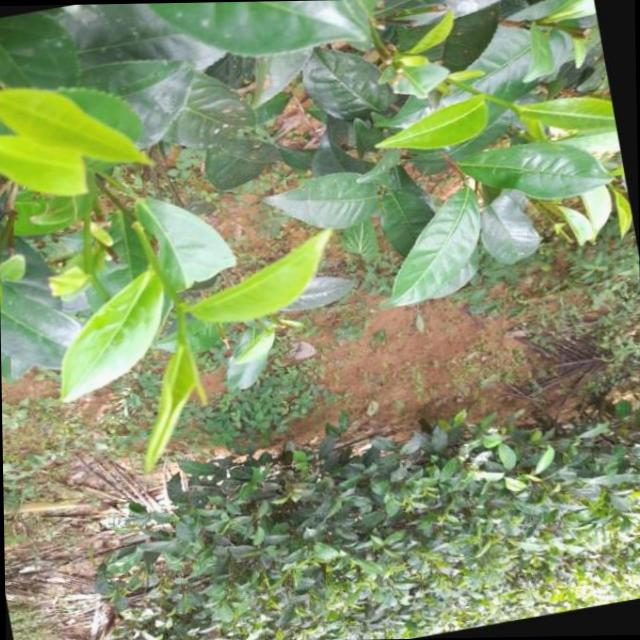Stem: (178, 330, 185, 340), (504, 101, 513, 108)
